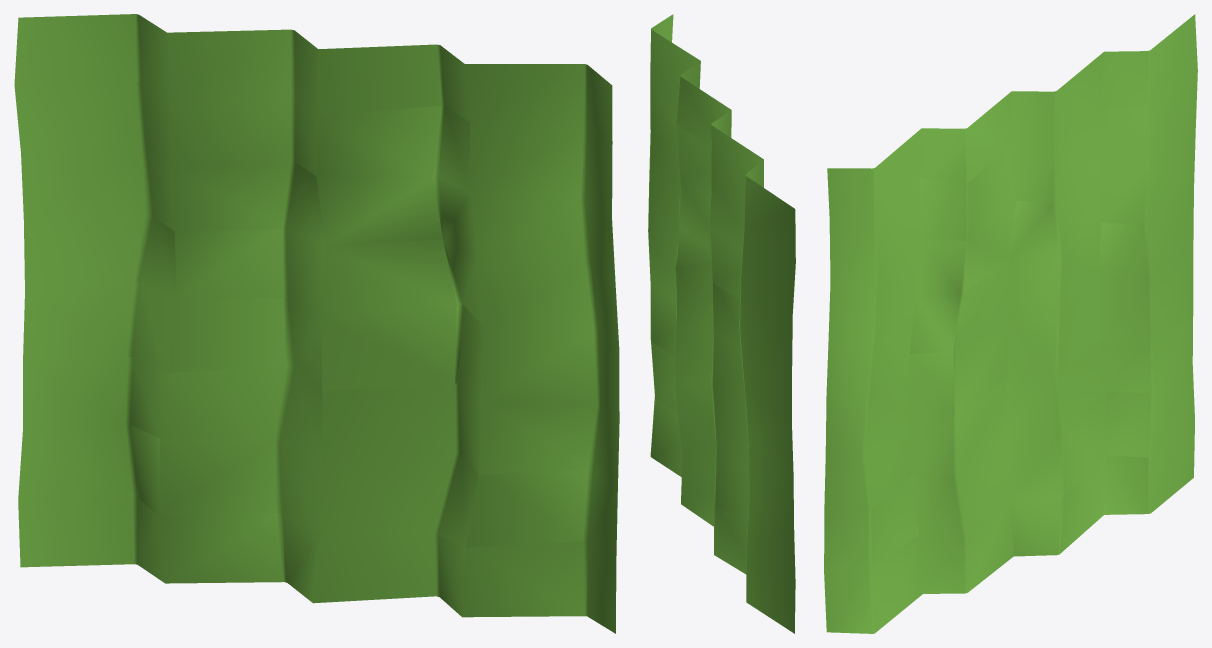
The model's file is kit_40x40m_terrain_0114.002.obj.
3 views of the same model, side by side, from view 1: azimuth 30°, elevation 25°; view 2: azimuth 150°, elevation 25°; view 3: azimuth 270°, elevation 25° (orthographic). The views are drawn at different scales.
Parts seen in each view (by area): view 1: kit_40x40m_terrain_0114.002; view 2: kit_40x40m_terrain_0114.002; view 3: kit_40x40m_terrain_0114.002.
Boxes of the visible parts, x1,y1,x2,y2 form: kit_40x40m_terrain_0114.002: [14, 14, 619, 633]; kit_40x40m_terrain_0114.002: [648, 14, 795, 633]; kit_40x40m_terrain_0114.002: [824, 14, 1197, 633].
Size of the model in its own units: 0.0576 by 0.079 by 0.0572.
